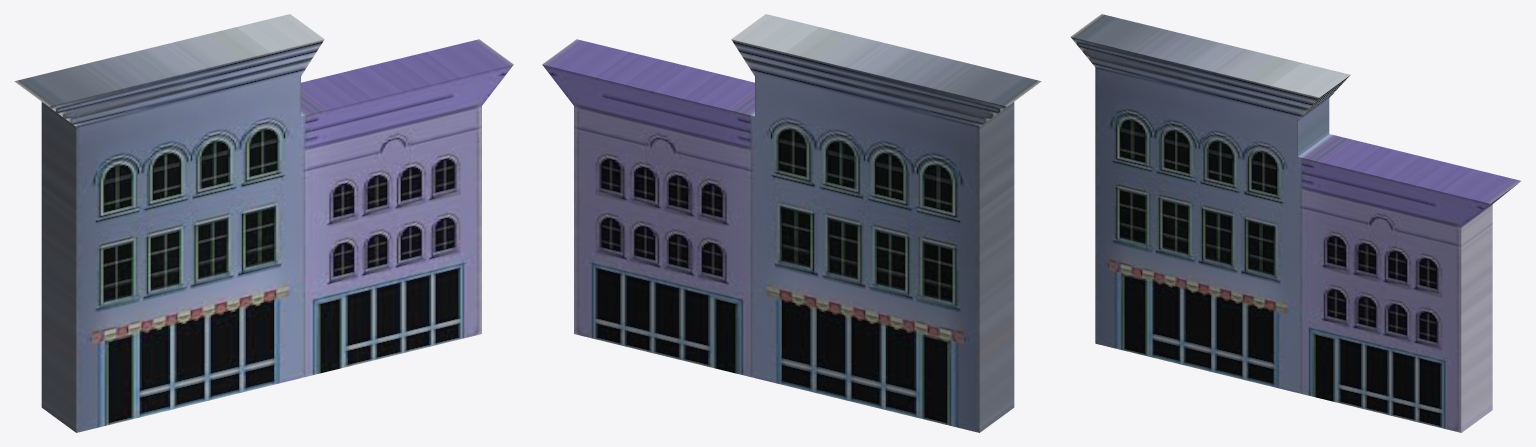
The picture shows the model from 3 angles, left to right: view 1: azimuth 30°, elevation 25°; view 2: azimuth 150°, elevation 25°; view 3: azimuth 330°, elevation 25°; orthographic projection. The views are drawn at different scales.
Visible parts, largest first — view 1: images; view 2: images; view 3: images.
Part boxes in pixels (x1,y1,x2,y2): images: (14, 14, 513, 432); images: (542, 14, 1041, 432); images: (1070, 14, 1520, 432).
Size of the model in its own units: 135 by 92.28 by 17.39.
